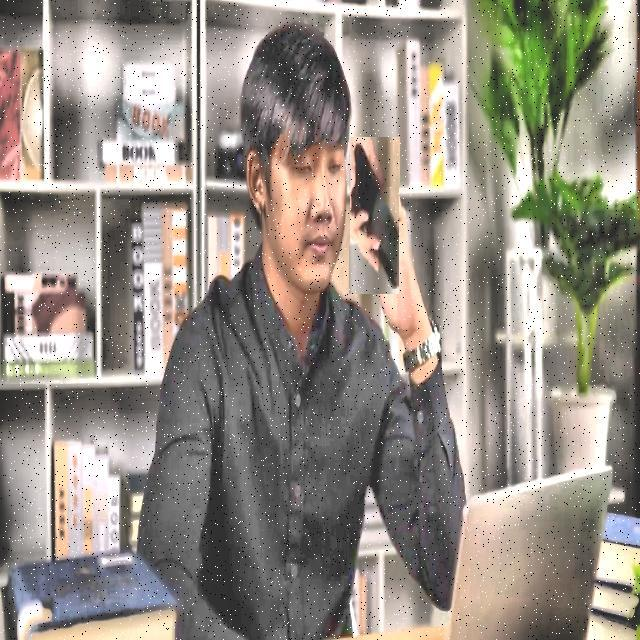Phone: (348, 136, 399, 294)
